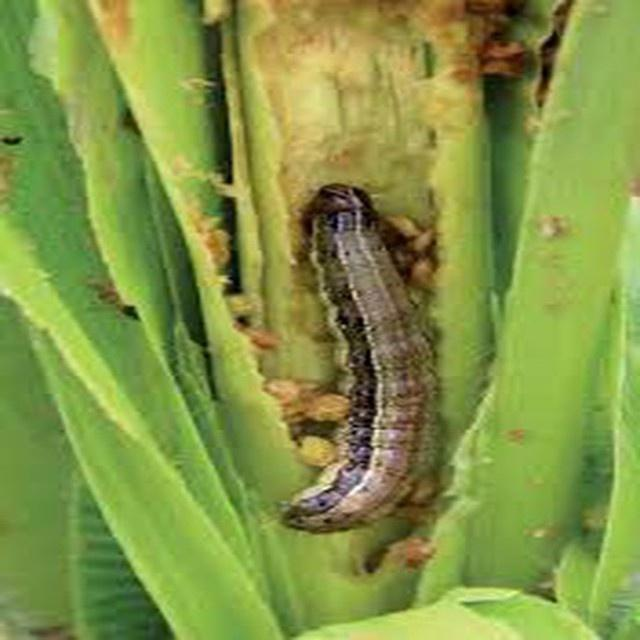gusano_cogollero: (283, 207, 435, 530)
